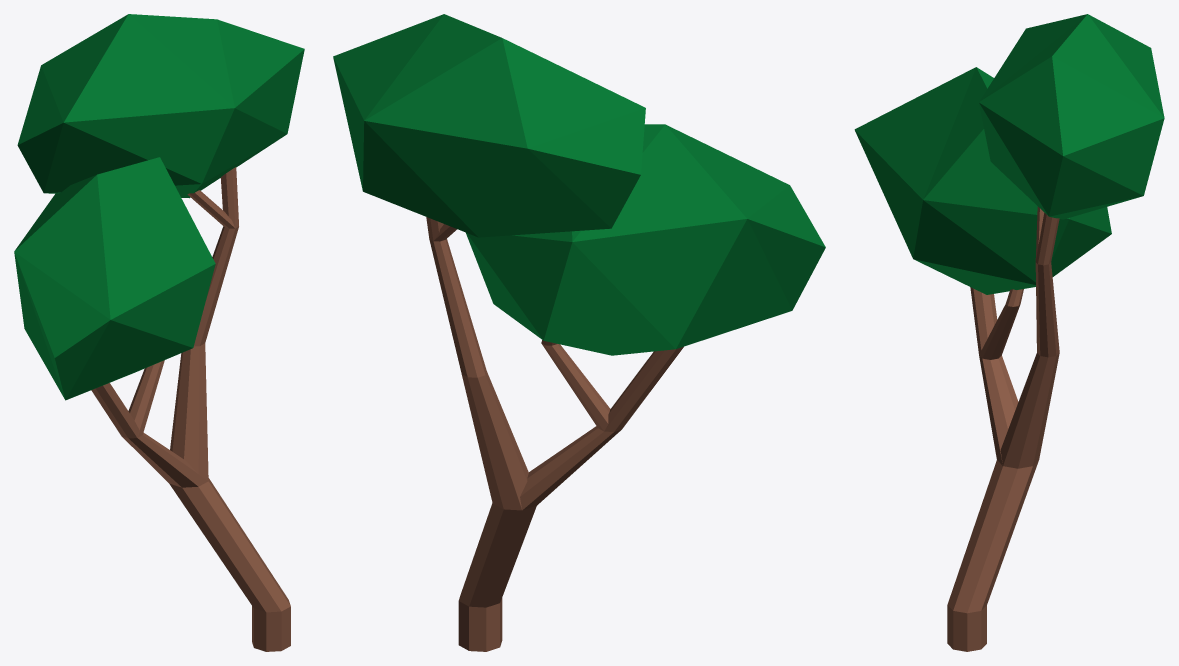
The model's file is Tree1.fbx.
The picture shows the model from 3 angles, left to right: view 1: azimuth 30°, elevation 25°; view 2: azimuth 150°, elevation 25°; view 3: azimuth 270°, elevation 25°; orthographic projection. The views are drawn at different scales.
Visible parts, largest first — view 1: Icosphere.001, Icosphere, Cube; view 2: Icosphere.001, Icosphere, Cube; view 3: Icosphere.001, Icosphere, Cube.
Part boxes in pixels (x1=…): Icosphere.001: x1=17, y1=14, x2=304, y2=198; Icosphere: x1=14, y1=157, x2=215, y2=400; Cube: x1=91, y1=167, x2=290, y2=651; Icosphere.001: x1=333, y1=14, x2=645, y2=237; Icosphere: x1=466, y1=124, x2=825, y2=355; Cube: x1=426, y1=217, x2=683, y2=651; Icosphere.001: x1=979, y1=14, x2=1164, y2=219; Icosphere: x1=854, y1=67, x2=1111, y2=294; Cube: x1=947, y1=206, x2=1059, y2=651.
Size of the model in its own units: 410 by 687 by 327.
